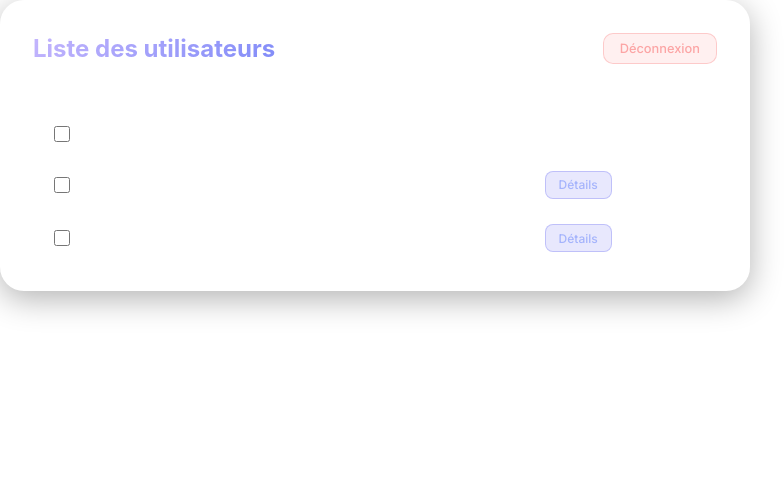
UserList - mode admin (avec token) › masque les détails au second clic sur 'Masquer'
Click the button "Détails" in the row of "Dupont". click: (578, 185)
box: [545,171,612,199]
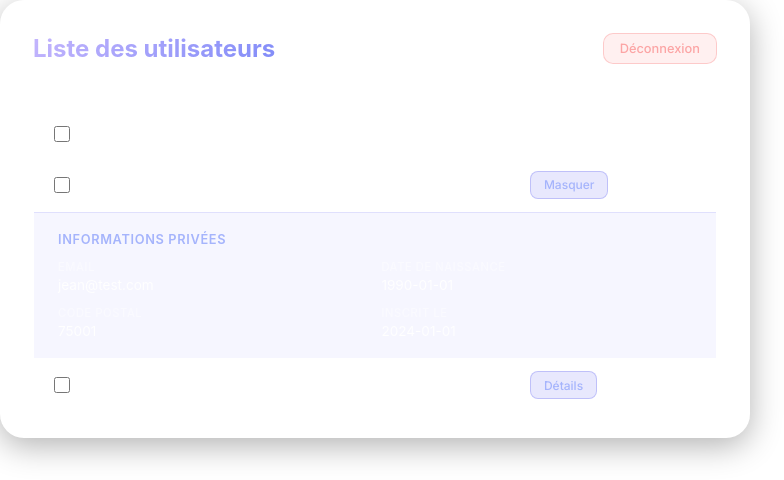
// Clic sur "Masquer"
Click the button "Masquer". click: (569, 185)
box: [530,171,608,199]
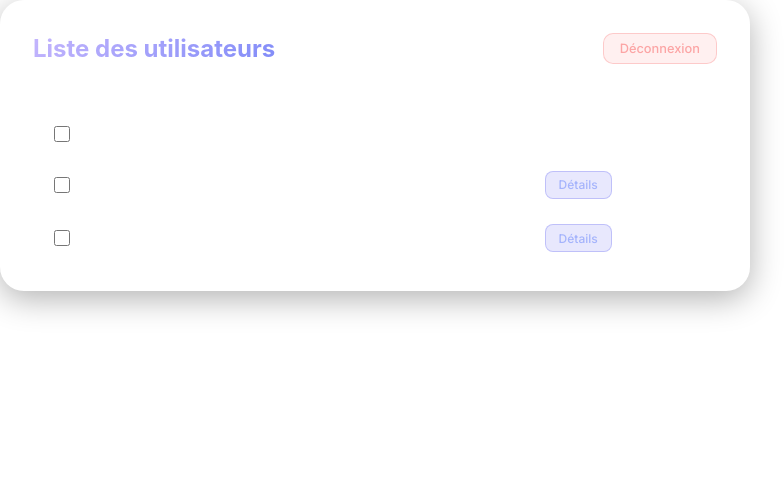
Result: the text "jean@test.com" is gone
